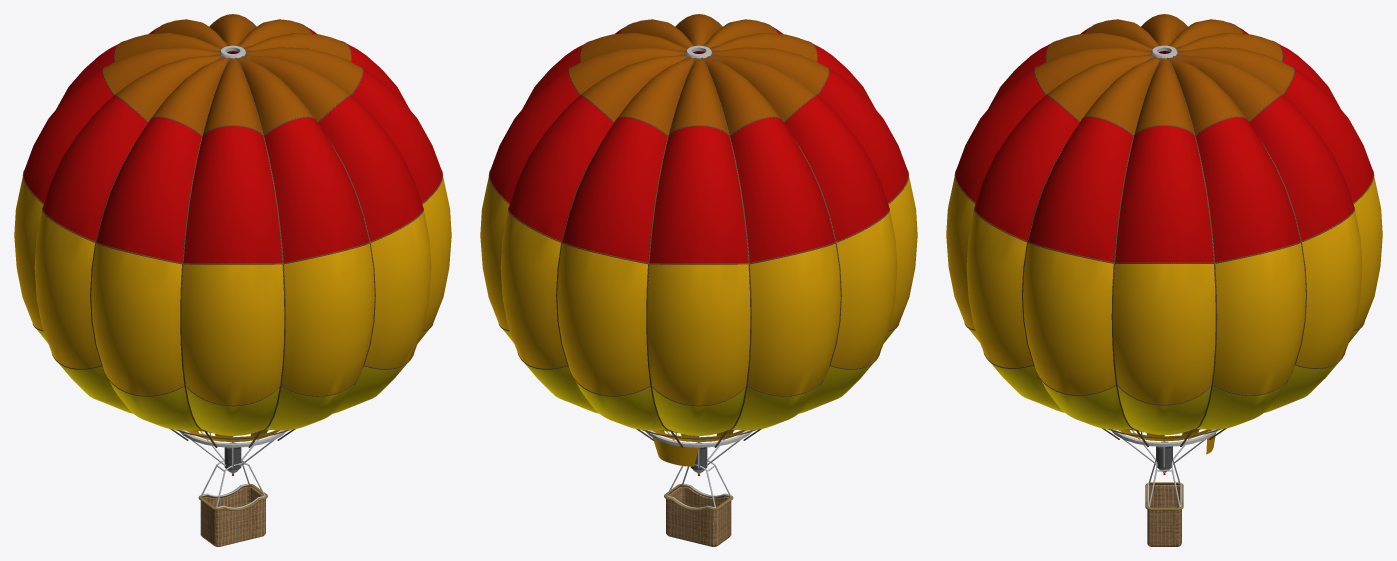
Rendered from HotAirBalloon.fbx.
3 renders of one model, left to right at view 1: azimuth 30°, elevation 25°; view 2: azimuth 150°, elevation 25°; view 3: azimuth 270°, elevation 25°, orthographic.
Parts seen in each view (by area): view 1: HotAirBalloon; view 2: HotAirBalloon; view 3: HotAirBalloon.
Part boxes in pixels (x1,y1,x2,y2): HotAirBalloon: (14, 14, 451, 546); HotAirBalloon: (480, 14, 917, 546); HotAirBalloon: (946, 14, 1382, 546).
Bounding box in the file's own units: 1417 × 1742 × 1417.
